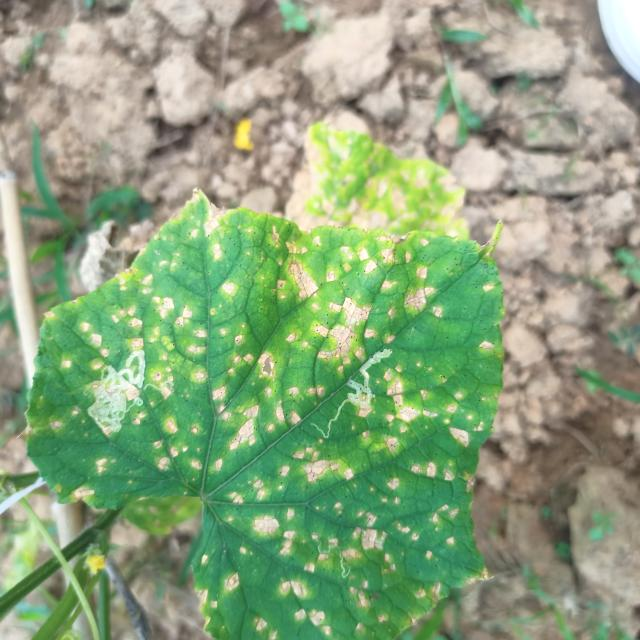disease_cucumber: (49, 204, 498, 640)
